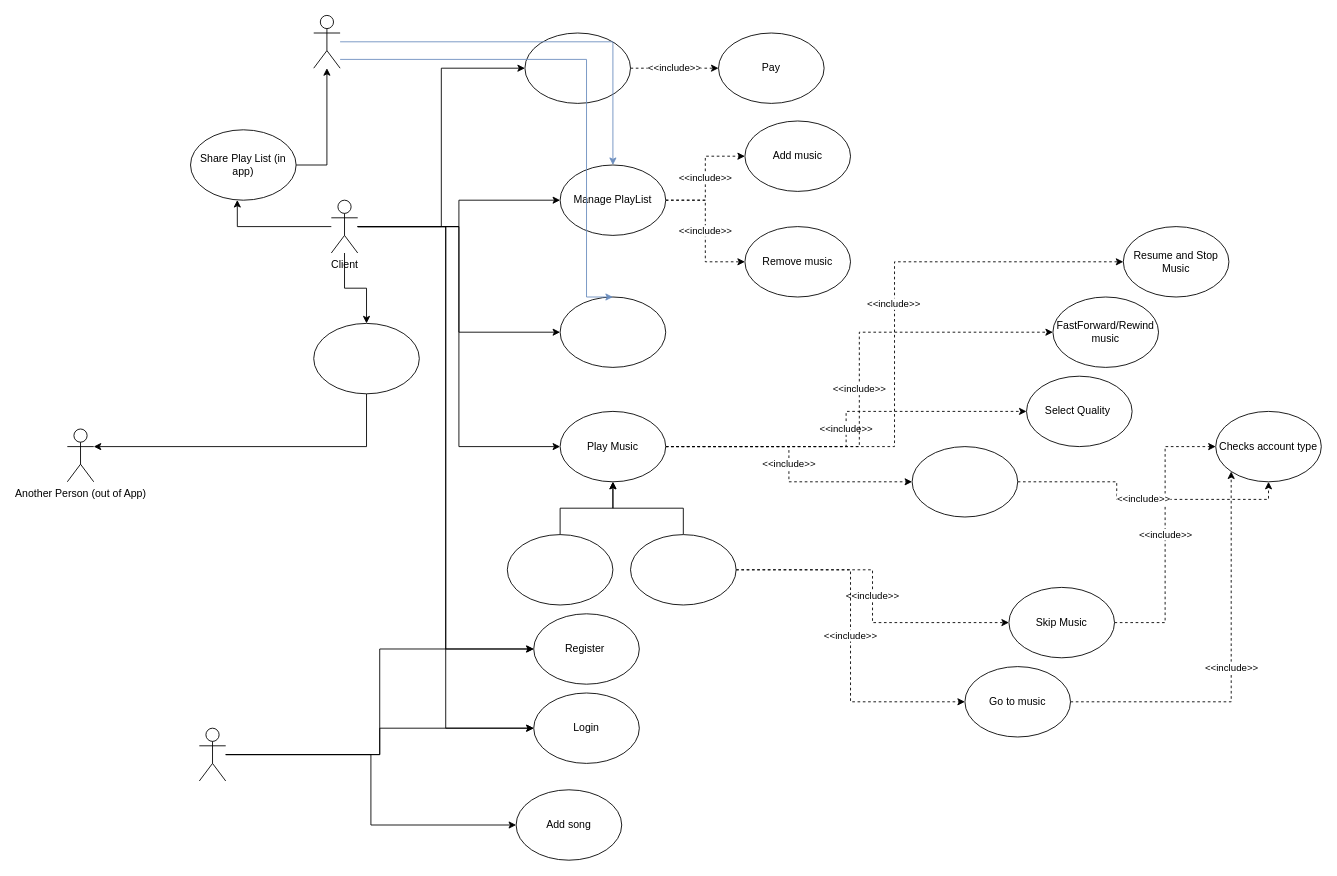
The diagram is 1337 pixels wide and 876 high, and some of its shapes have lost their labels. The box of each missing label's shape, as (x1, y1, x2, y2) in pixels:
Add/Remove PlayList: (559, 296, 666, 367)
Another Client (in App): (313, 15, 340, 68)
Download: (911, 446, 1018, 517)
Play Music from playlist: (630, 534, 736, 605)
Publisher: (198, 727, 226, 781)
Search Music And play it: (506, 534, 613, 605)
Share Play List (out of app): (313, 323, 419, 394)
Upgrade Account: (524, 32, 631, 103)
